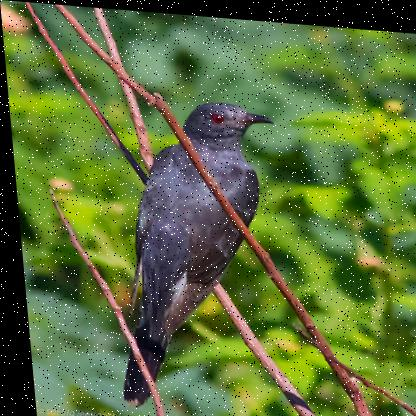Burung: (95, 89, 291, 416)
